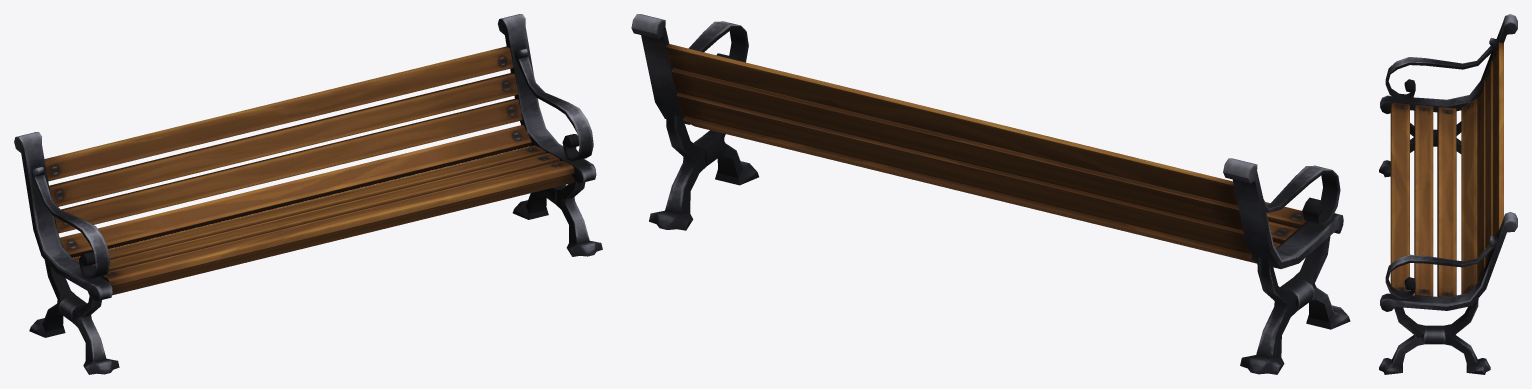
Rendered from bench.glb.
3 renders of one model, left to right at view 1: azimuth 30°, elevation 25°; view 2: azimuth 150°, elevation 25°; view 3: azimuth 270°, elevation 25°, orthographic. The views are drawn at different scales.
Visible parts, largest first — view 1: s4studio_mesh_2; view 2: s4studio_mesh_2; view 3: s4studio_mesh_2.
Part boxes in pixels (x1,y1,x2,y2): s4studio_mesh_2: (14, 14, 602, 374); s4studio_mesh_2: (631, 14, 1350, 374); s4studio_mesh_2: (1379, 14, 1517, 374).
Size of the model in its own units: 2.53 by 0.8576 by 0.7066.
1 material, 1 textured.
